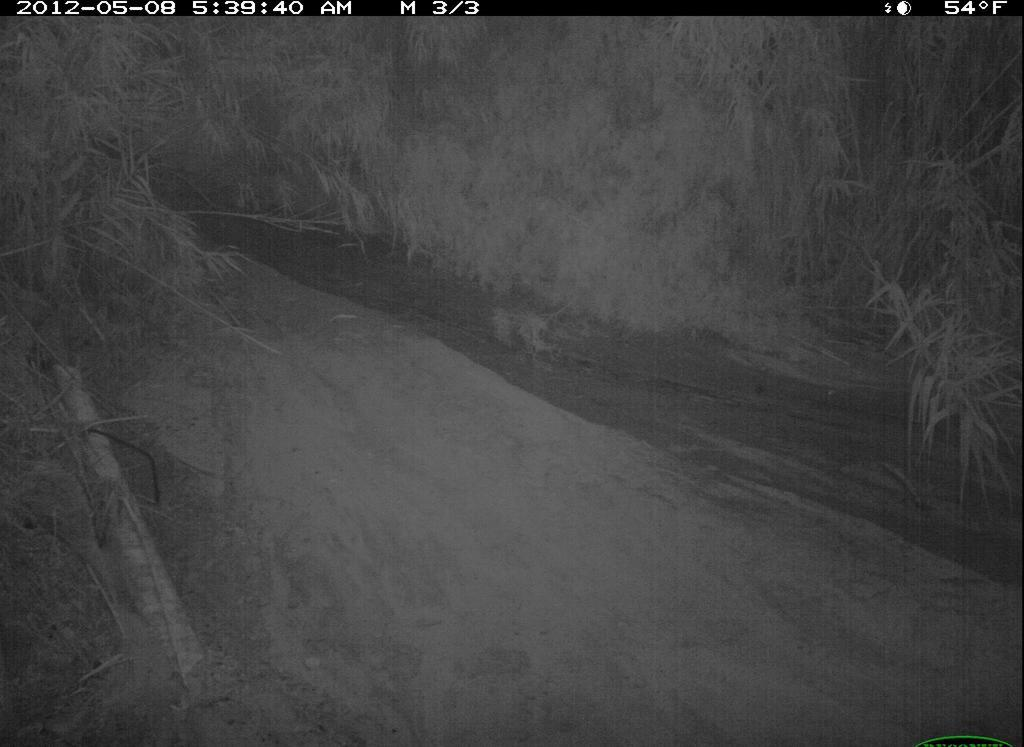bobcat: (14, 17, 1024, 747)
